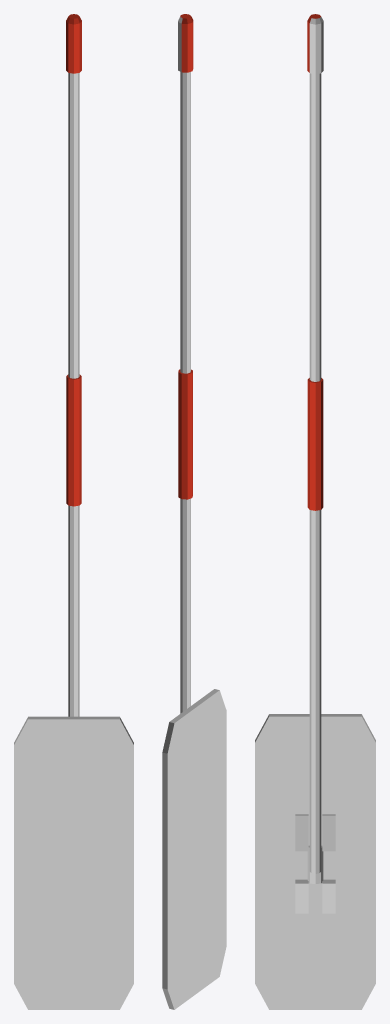
The model's file is Mop 2.fbx.
3 renders of one model, left to right at view 1: azimuth 90°, elevation 25°; view 2: azimuth 150°, elevation 25°; view 3: azimuth 270°, elevation 25°, orthographic. The views are drawn at different scales.
Parts seen in each view (by area): view 1: Mop 2; view 2: Mop 2; view 3: Mop 2.
Boxes of the visible parts, x1,y1,x2,y2 form: Mop 2: (14, 14, 133, 1009); Mop 2: (162, 14, 226, 1009); Mop 2: (255, 14, 375, 1009).
Size of the model in its own units: 0.268 by 2.44 by 0.0484.
